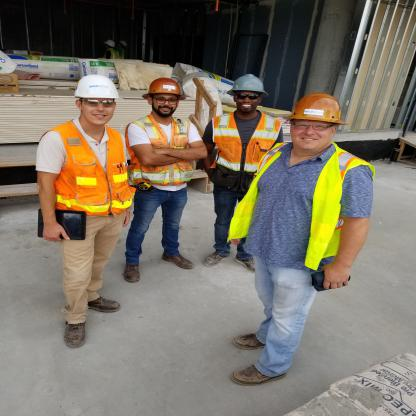helmet: (281, 91, 354, 123), (75, 75, 122, 102), (219, 76, 270, 97), (139, 78, 183, 99)
person: (258, 87, 376, 386), (30, 68, 134, 353), (126, 74, 210, 282), (198, 70, 286, 261)
vest: (228, 144, 366, 271), (31, 122, 134, 224), (128, 110, 206, 195), (208, 111, 284, 179)
